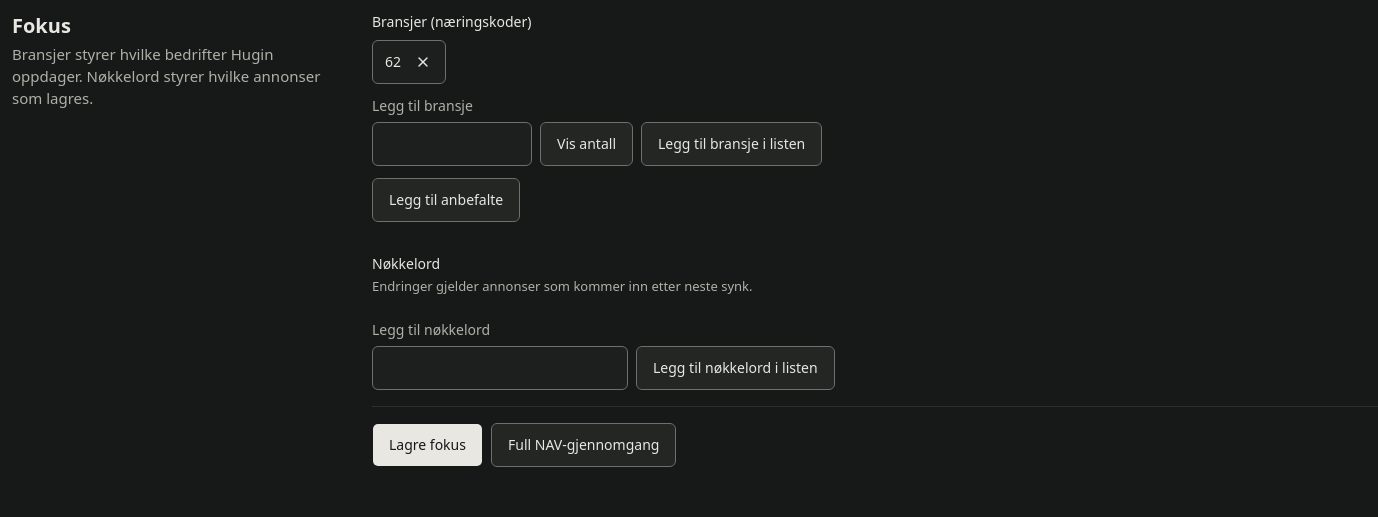
FocusSection › shows the honest invalid-format message from the preview button, not a fabricated Brreg failure
This screenshot has width=1378, height=517.
In the field labelled "Legg til bransje": (452, 144) [372, 122, 532, 166], type "abc"
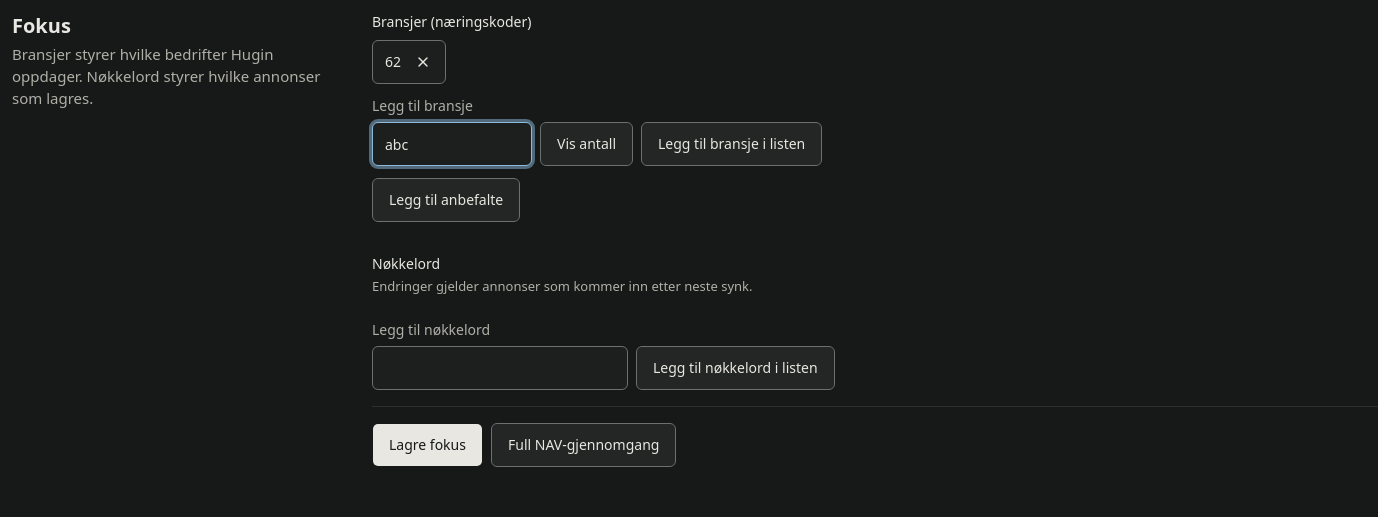
Click the button "Vis antall": (586, 144) [540, 122, 633, 166]
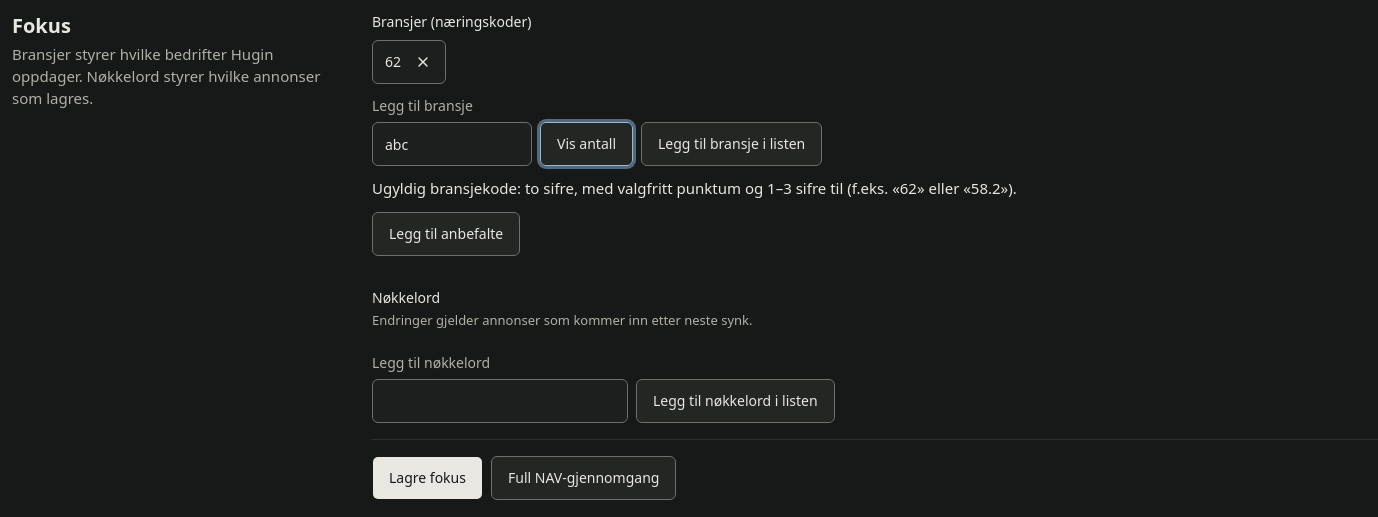
Check: the text "Ugyldig bransjekode" is shown, box [372, 178, 1017, 198]
